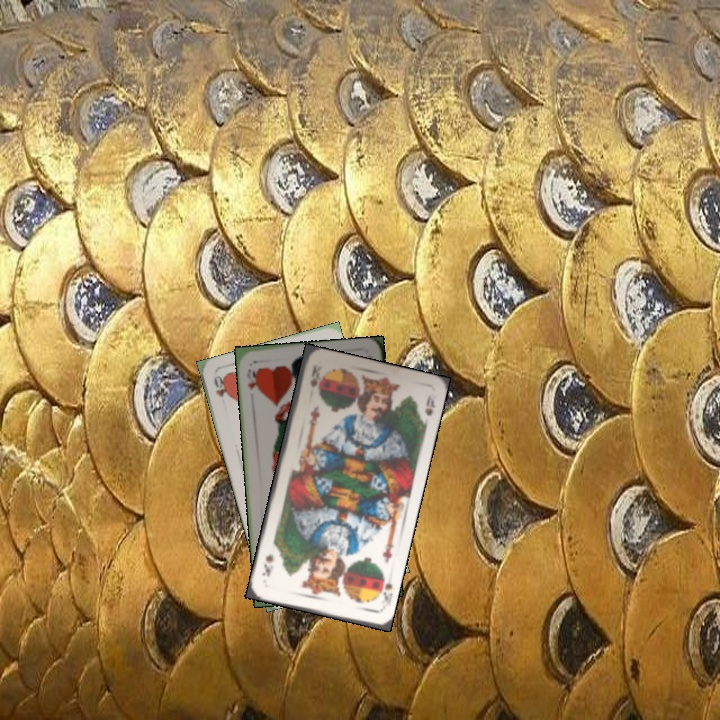HO: (210, 371, 228, 399), (243, 365, 261, 393)
SK: (372, 571, 395, 613), (306, 361, 323, 390)
